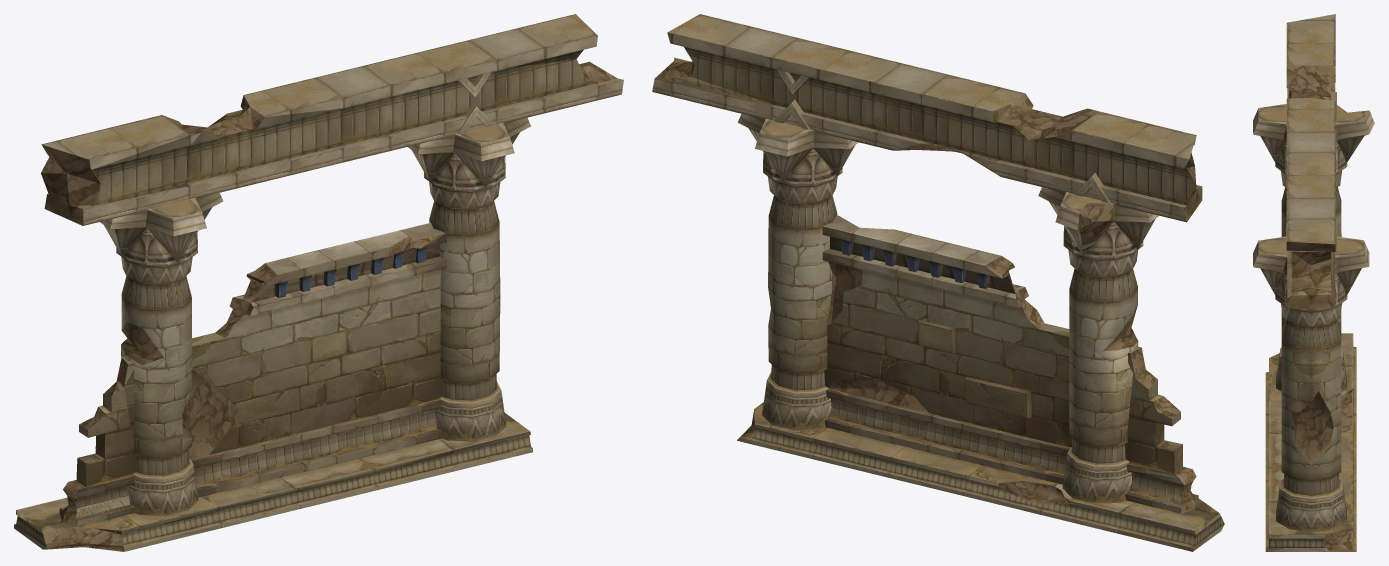
The model's file is TelNumara_BrokenRelic006.FBX.
3 views of the same model, side by side, from view 1: azimuth 30°, elevation 25°; view 2: azimuth 150°, elevation 25°; view 3: azimuth 270°, elevation 25° (orthographic). The views are drawn at different scales.
Parts seen in each view (by area): view 1: TelNumara_BrokenRelic006; view 2: TelNumara_BrokenRelic006; view 3: TelNumara_BrokenRelic006.
Boxes of the visible parts, x1=… form: TelNumara_BrokenRelic006: x1=14, y1=14, x2=623, y2=551; TelNumara_BrokenRelic006: x1=652, y1=14, x2=1224, y2=551; TelNumara_BrokenRelic006: x1=1253, y1=14, x2=1374, y2=551.
Bounding box in the file's own units: 1227 × 799 × 257.
